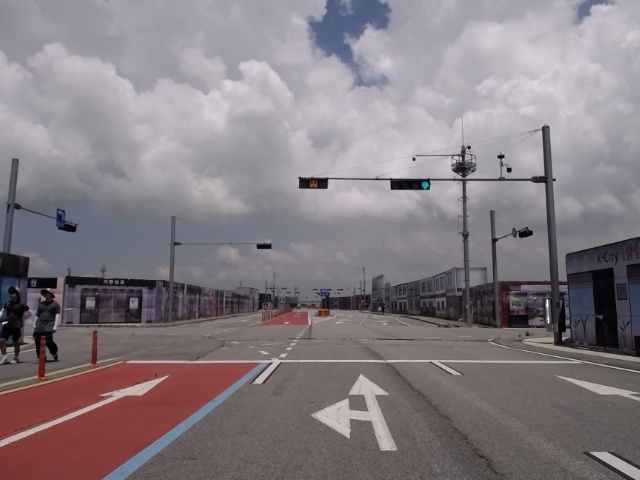straight_green_4: (391, 178, 430, 191)
